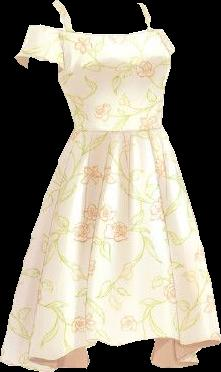Bodice: (58, 28, 171, 131)
Hemline: (0, 336, 219, 371)
Neckline: (62, 25, 154, 38)
Skirt: (0, 126, 220, 371)
Sleeve: (15, 0, 72, 70)
Sleeveline: (57, 0, 74, 29)
Waistline: (72, 123, 163, 133)
